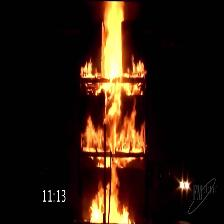fire: (90, 0, 130, 222)
